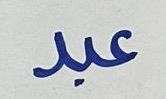ain: (103, 28, 140, 71)
dal: (27, 27, 68, 81)
yeh: (69, 31, 100, 89)
